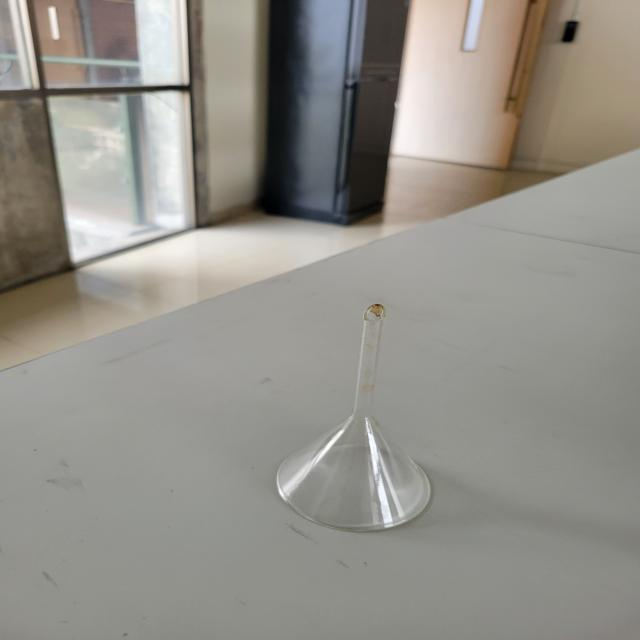Funnel: (225, 267, 470, 551)
